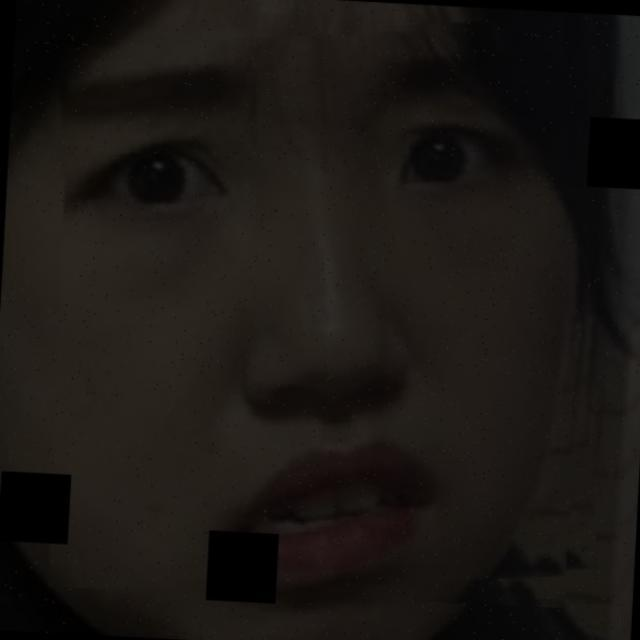Surprised: (32, 62, 589, 633)
